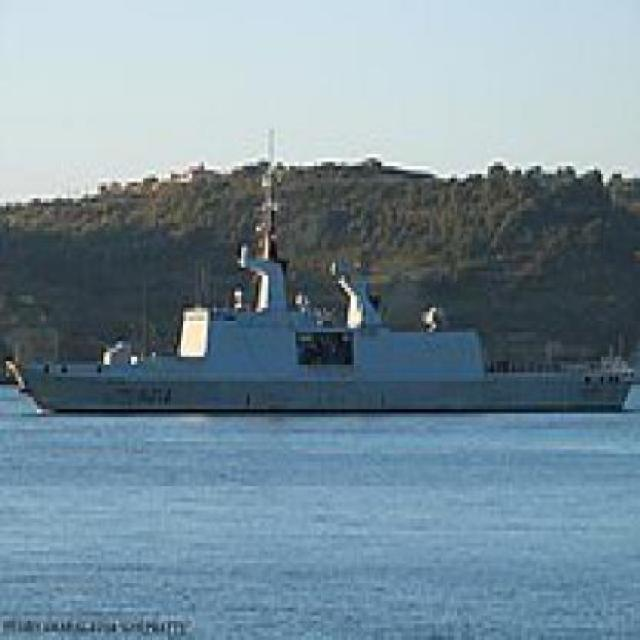warship2: (7, 236, 635, 431)
